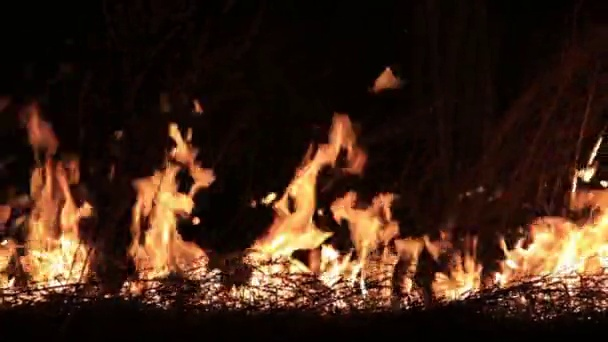fire: (231, 115, 401, 300), (123, 133, 218, 299), (1, 154, 91, 299), (494, 188, 608, 291), (425, 235, 482, 299)
